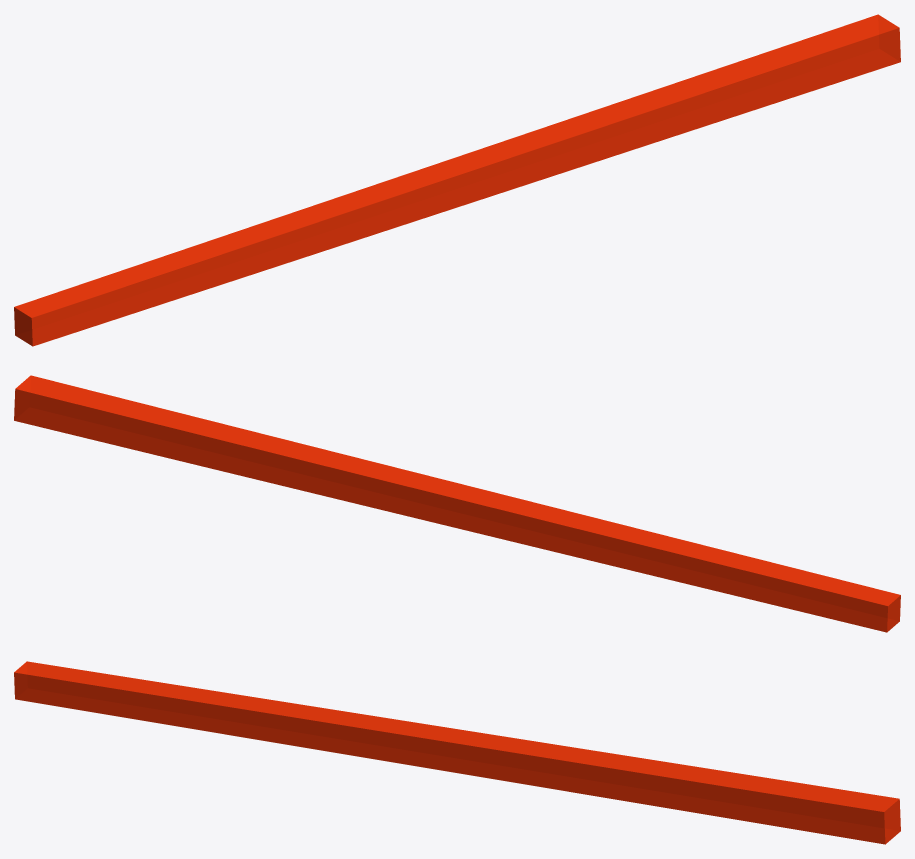
The model's file is Event_421364160_EErechit_50.fbx.
3 renders of one model, top to bottom at view 1: azimuth 30°, elevation 25°; view 2: azimuth 150°, elevation 25°; view 3: azimuth 330°, elevation 25°, orthographic. The views are drawn at different scales.
Parts seen in each view (by area): view 1: Model; view 2: Model; view 3: Model.
Part boxes in pixels (left/top/right/bottom): Model: left=14, top=14, right=900, bottom=346; Model: left=14, top=375, right=900, bottom=632; Model: left=14, top=661, right=900, bottom=844.
Size of the model in its own units: 2.39 by 0.1816 by 0.2526.
